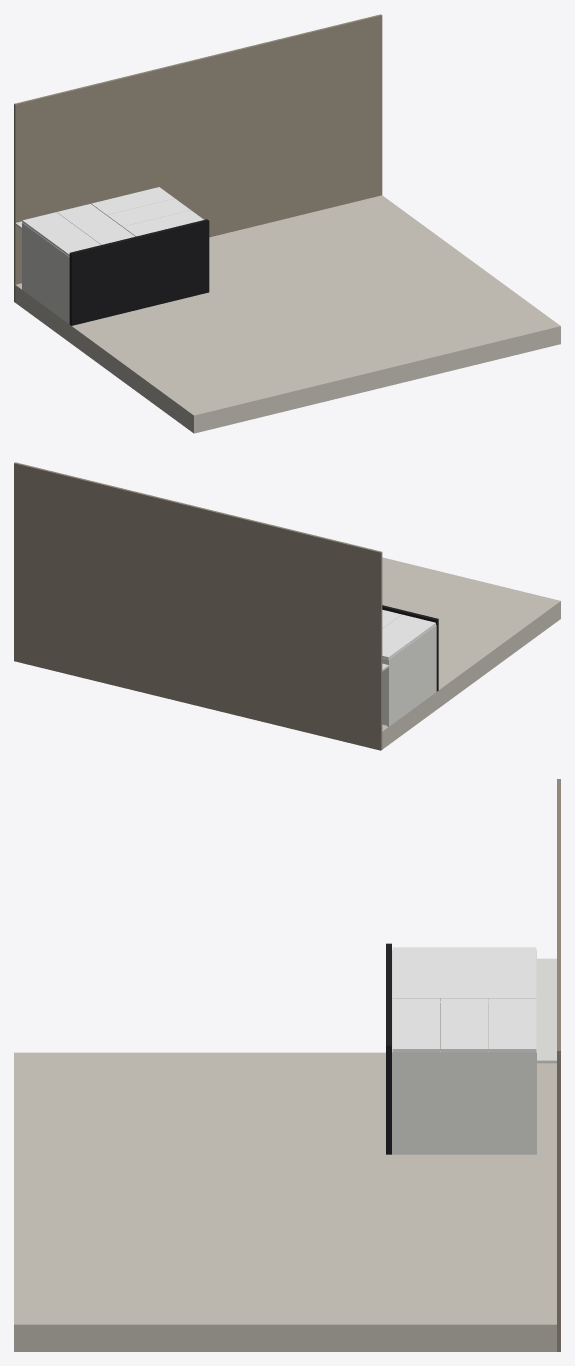
File: POC_Cozinha_01.obj
3 renders of one model, top to bottom at view 1: azimuth 30°, elevation 25°; view 2: azimuth 150°, elevation 25°; view 3: azimuth 270°, elevation 25°, orthographic. The views are drawn at different scales.
Visible parts, largest first — view 1: AMBIENTE, M01_base_cabinet, M02_drawer_cabinet; view 2: AMBIENTE, M01_base_cabinet; view 3: AMBIENTE, M02_drawer_cabinet, M01_base_cabinet.
Part boxes in pixels (bbox=[...]): AMBIENTE: bbox=[14, 14, 560, 433]; M01_base_cabinet: bbox=[15, 204, 209, 325]; M02_drawer_cabinet: bbox=[91, 187, 203, 236]; AMBIENTE: bbox=[14, 462, 560, 750]; M01_base_cabinet: bbox=[382, 605, 438, 726]; AMBIENTE: bbox=[14, 779, 560, 1351]; M02_drawer_cabinet: bbox=[392, 998, 556, 1154]; M01_base_cabinet: bbox=[386, 943, 556, 1154].
Size of the model in its own units: 3200 by 1650 by 2720.
